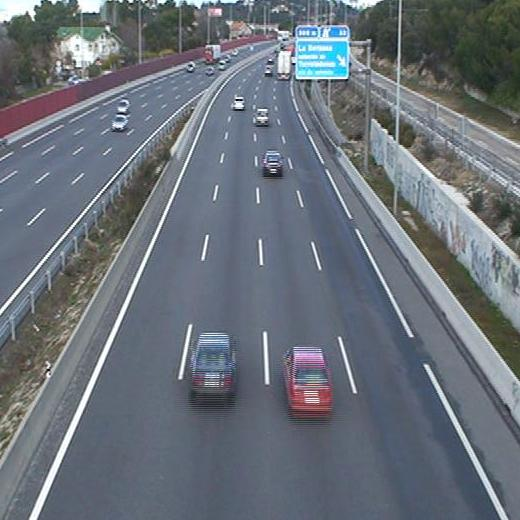car: (283, 343, 335, 419), (187, 330, 237, 406), (263, 149, 285, 179), (252, 106, 271, 129), (231, 95, 248, 112), (262, 66, 274, 78)
truck: (275, 47, 293, 82)
